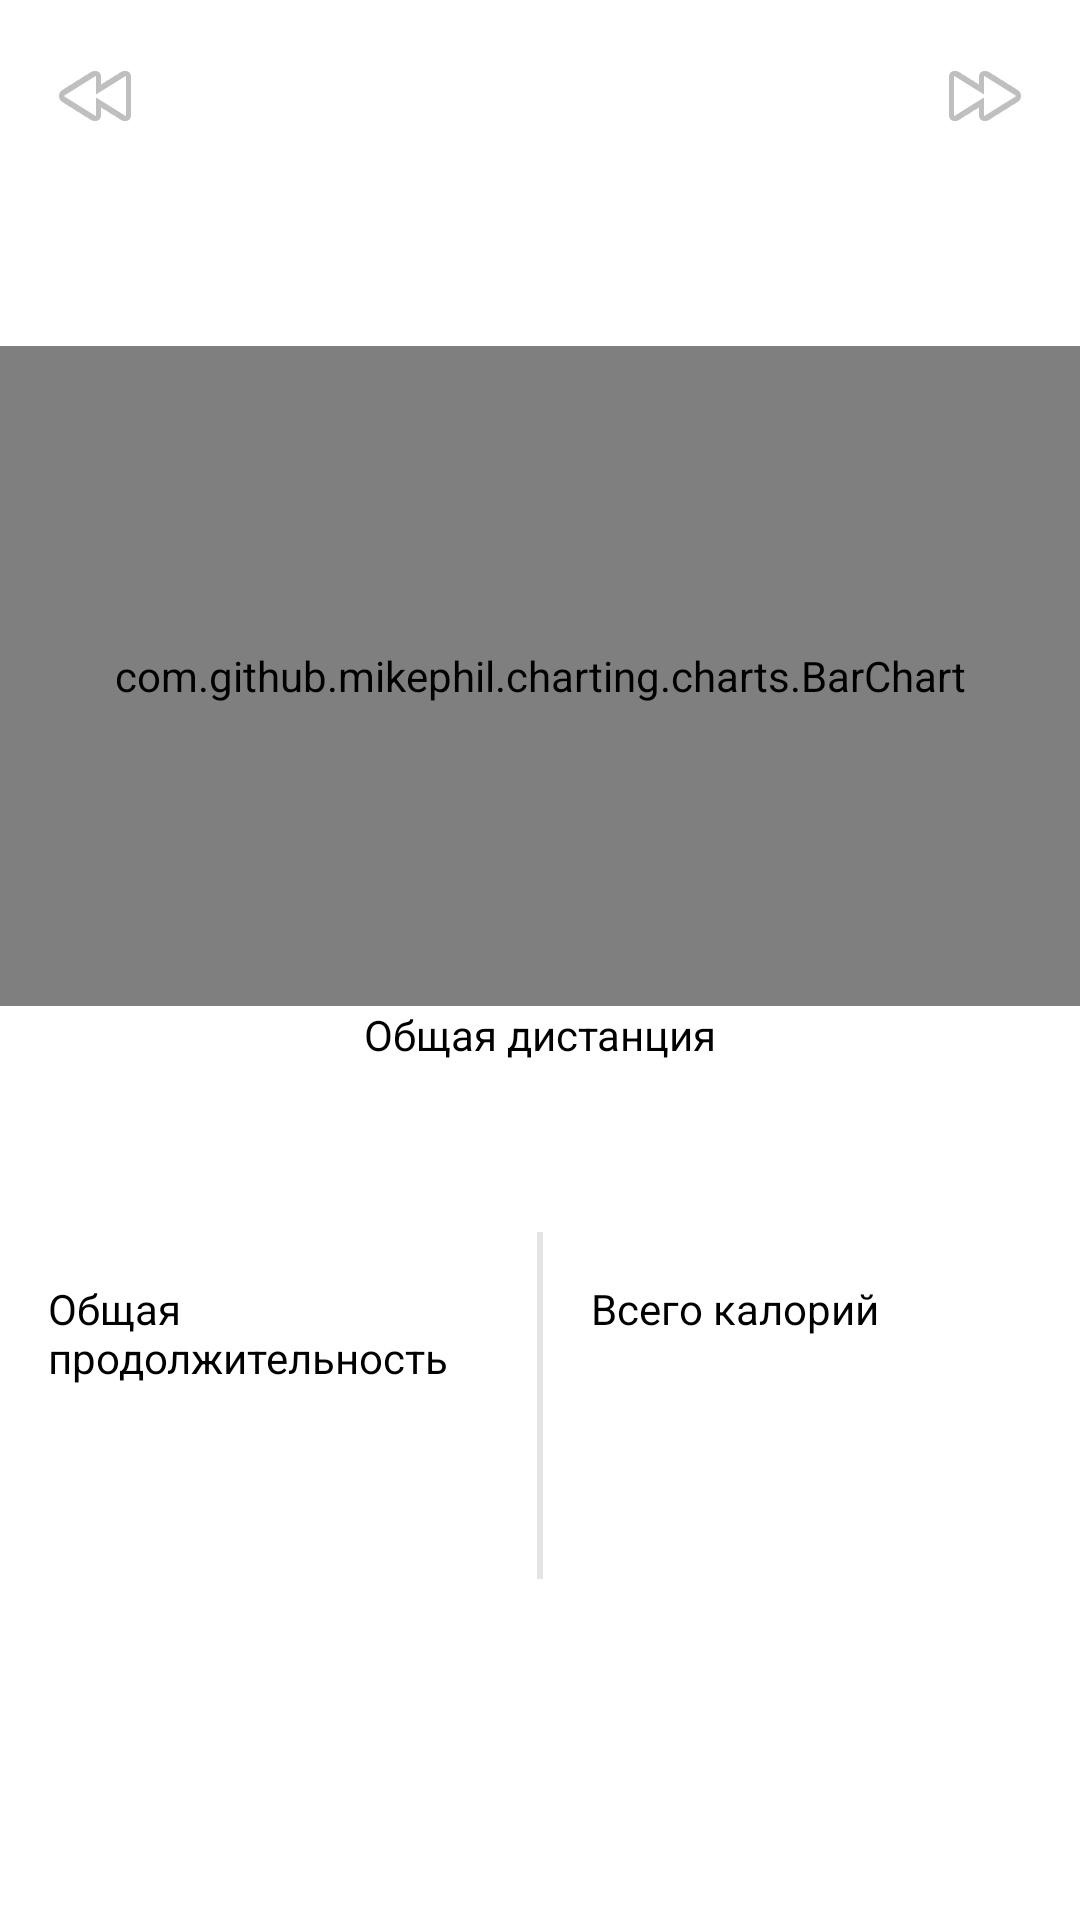

Named icons in this screenshot (1080px×1920px) and their bounding boxes, {"x1": x1, "y1": y1, "x2": x2, "y2": y2}:
rew: {"x1": 59, "y1": 71, "x2": 131, "y2": 121}
